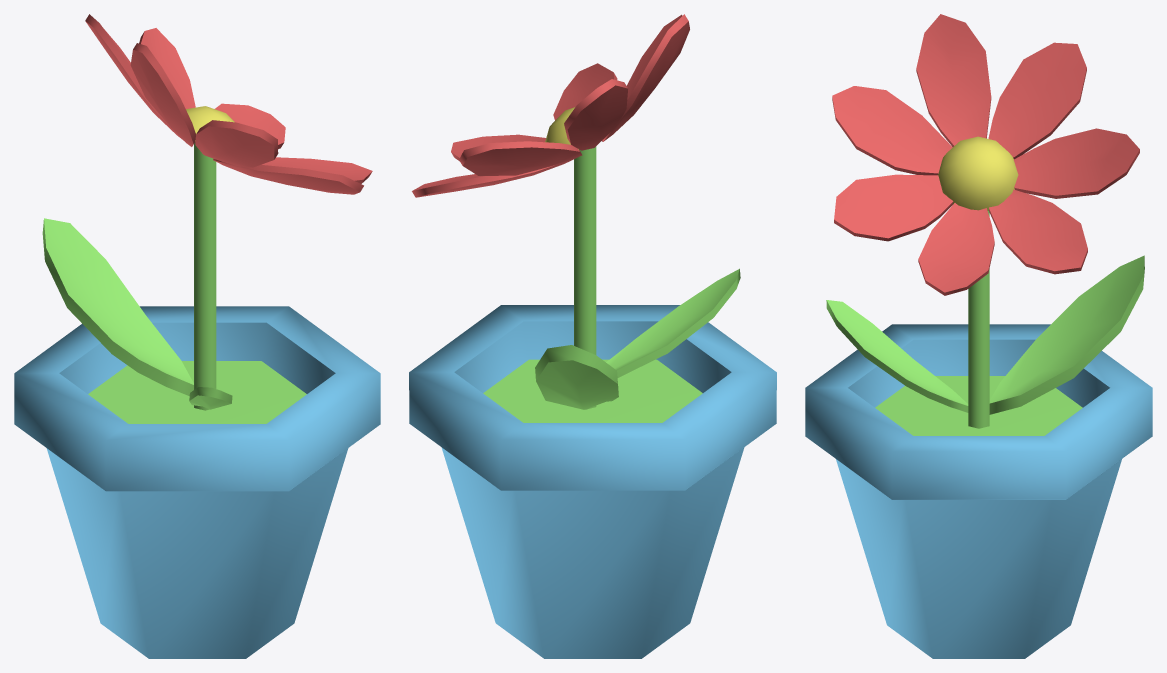
File: flower.fbx
3 views of the same model, side by side, from view 1: azimuth 30°, elevation 25°; view 2: azimuth 150°, elevation 25°; view 3: azimuth 270°, elevation 25° (orthographic). The views are drawn at different scales.
Parts seen in each view (by area): view 1: Array_3; view 2: Array_3; view 3: Array_3.
Part boxes in pixels (left/top/right/bottom): Array_3: left=14, top=14, right=380, bottom=658; Array_3: left=409, top=14, right=776, bottom=658; Array_3: left=805, top=14, right=1152, bottom=658.
Size of the model in its own units: 693 by 1370 by 746.
